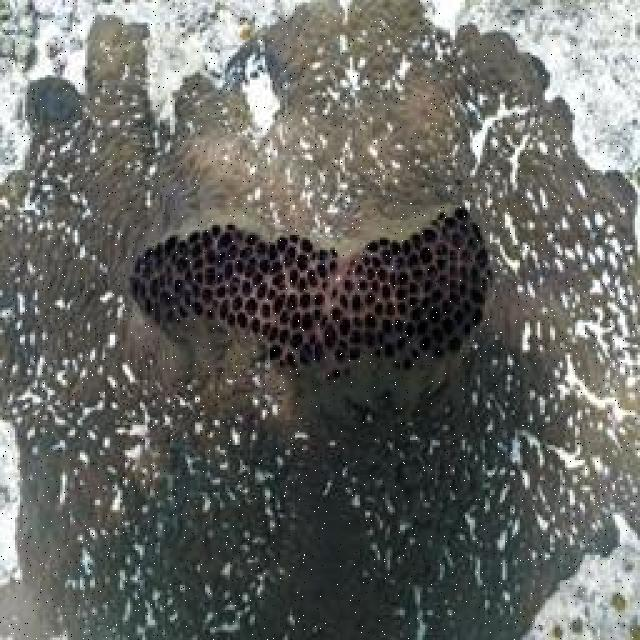reefs: (128, 204, 498, 388)
